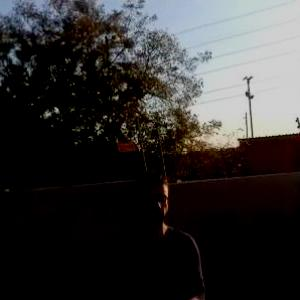follow: (102, 160, 220, 299)
